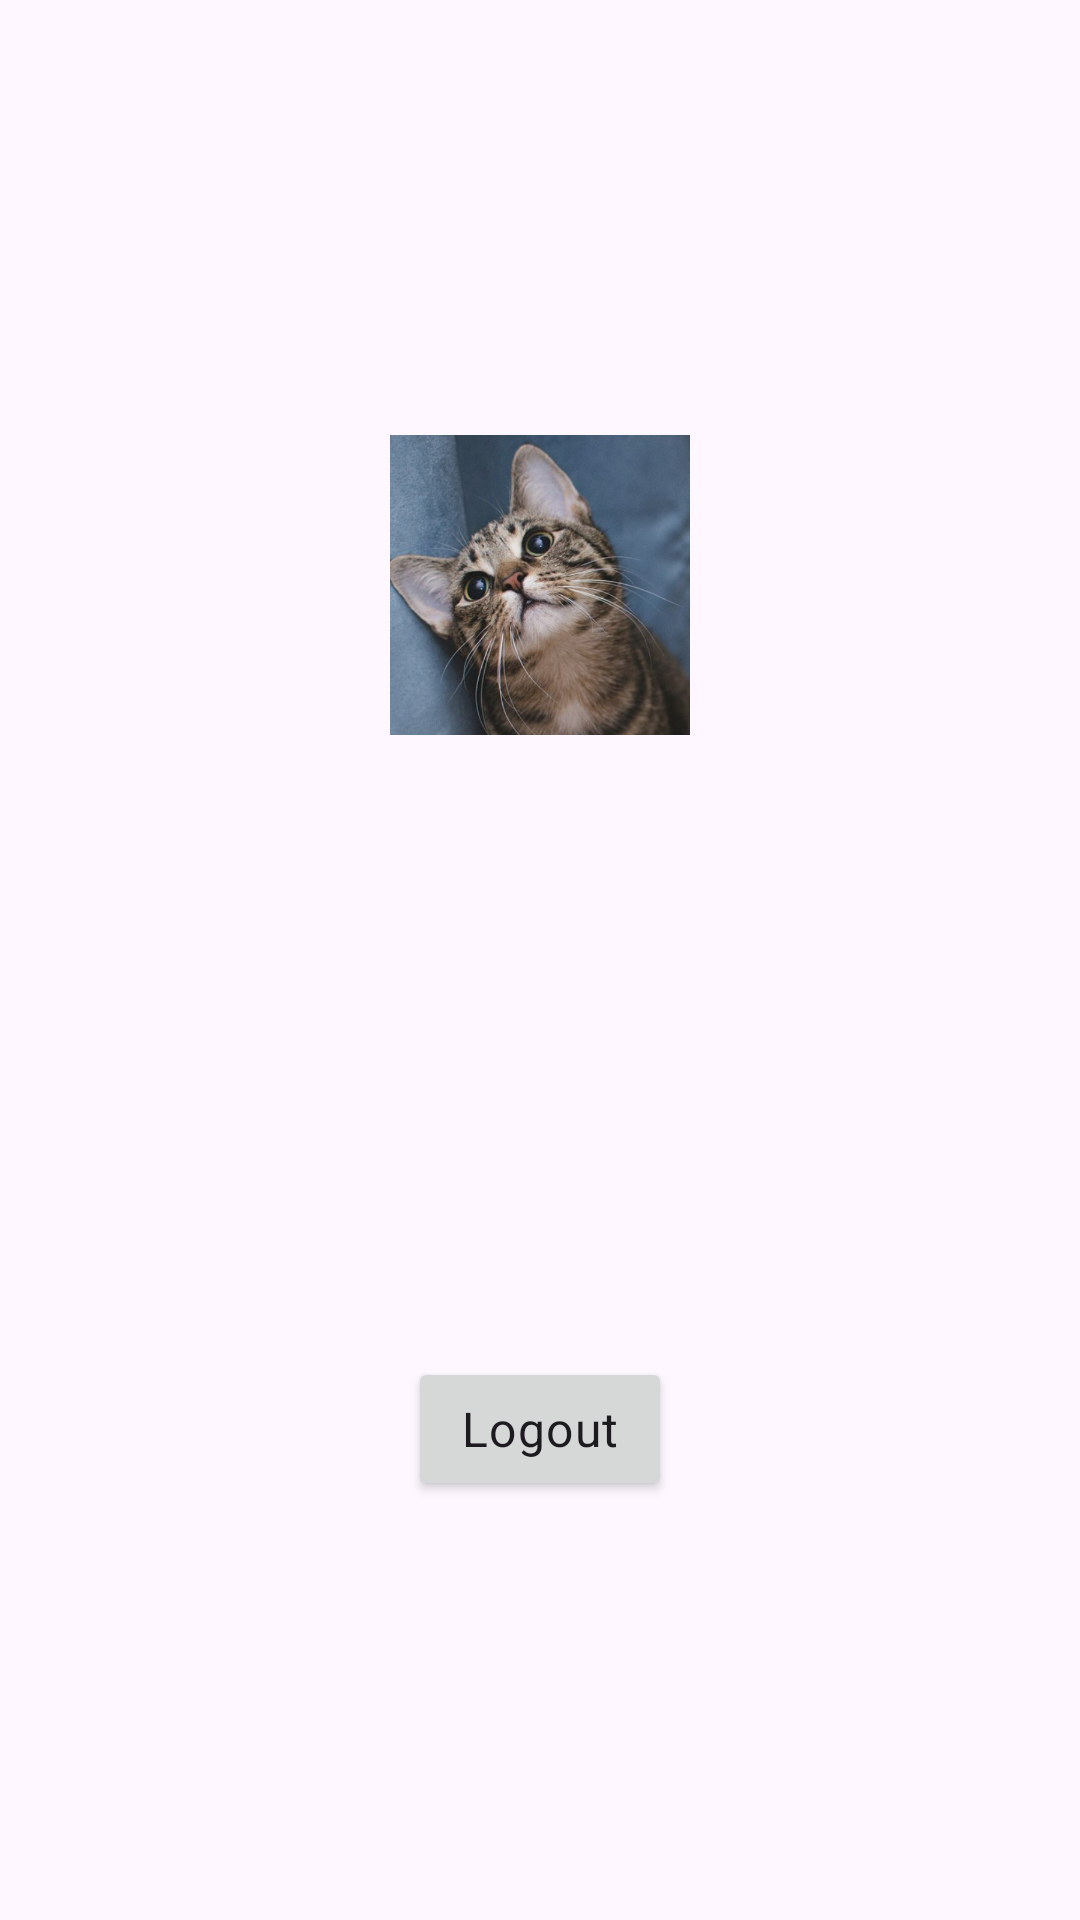

Screen size 1080*1920. Icon name, then its center in pixels as (x=x, y=y):
cat: (x=540, y=585)
